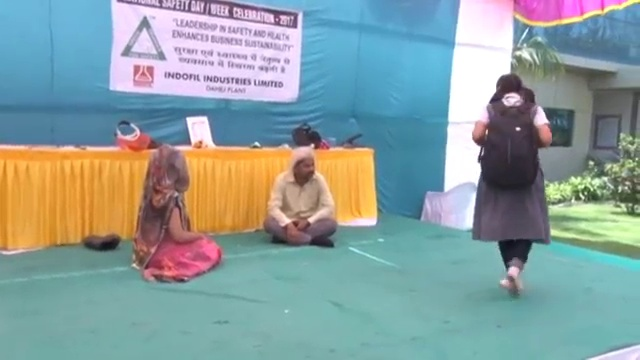helmet_off: (148, 148, 189, 191), (491, 74, 529, 99), (290, 148, 317, 181)
person: (470, 74, 556, 295), (133, 148, 222, 284), (260, 146, 339, 249)
